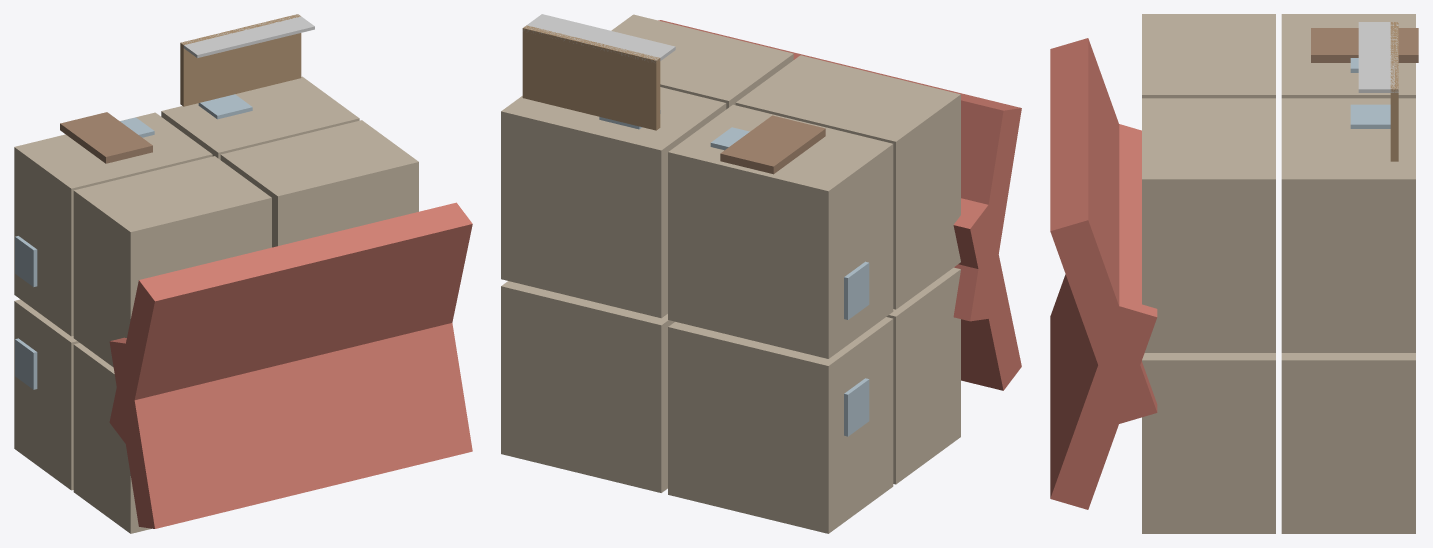
Rendered from building-home.glb.
3 views of the same model, side by side, from view 1: azimuth 30°, elevation 25°; view 2: azimuth 150°, elevation 25°; view 3: azimuth 270°, elevation 25° (orthographic). The views are drawn at different scales.
Visible parts, largest first — view 1: world; view 2: world; view 3: world.
Part boxes in pixels (box(x1,y1,x2,y2)): world: box(14, 14, 472, 533); world: box(501, 14, 1021, 533); world: box(1050, 14, 1418, 533).
Size of the model in its own units: 10.8 by 12.1 by 9.23.
